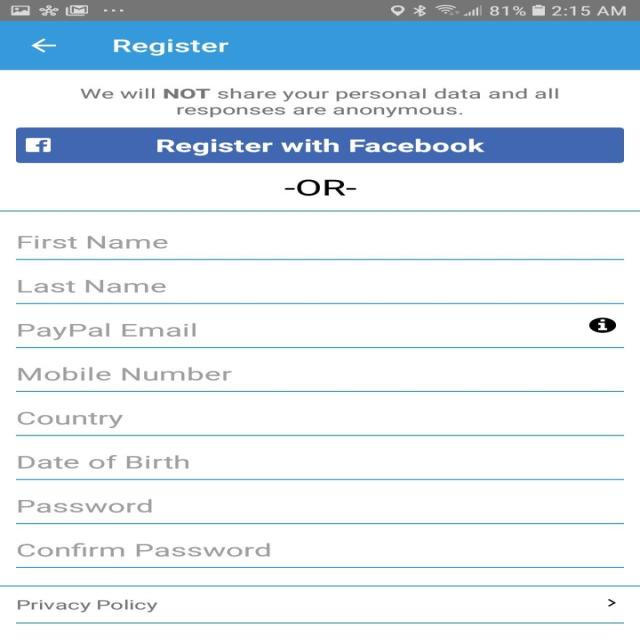EditText: (15, 317, 623, 348), (15, 542, 623, 568), (16, 498, 624, 524), (16, 454, 624, 480), (16, 411, 624, 436), (15, 367, 623, 392), (16, 235, 624, 260), (15, 279, 623, 304)
Icon: (588, 317, 616, 333), (30, 38, 56, 53), (607, 598, 616, 606)
Text: (79, 88, 558, 118), (18, 542, 270, 556), (18, 366, 232, 381), (18, 322, 196, 340), (17, 454, 188, 469), (18, 235, 168, 249), (112, 38, 228, 56), (17, 279, 166, 292), (18, 498, 152, 512), (16, 599, 158, 612), (18, 412, 124, 428), (284, 179, 356, 196)
TextButton: (16, 127, 624, 163)
